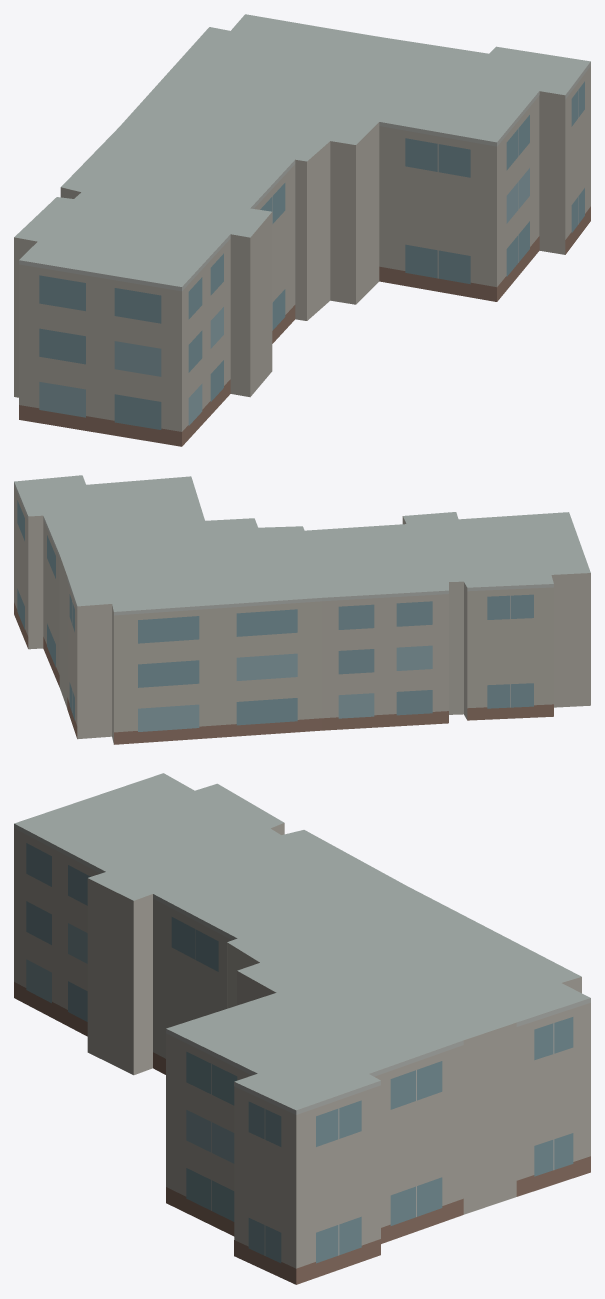
File: survey-upis-32467064.glb
3 views of the same model, one above another, from view 1: azimuth 30°, elevation 25°; view 2: azimuth 150°, elevation 25°; view 3: azimuth 270°, elevation 25° (orthographic). The views are drawn at different scales.
Parts seen in each view (by area): view 1: survey-upis-32467064.tmp; view 2: survey-upis-32467064.tmp; view 3: survey-upis-32467064.tmp.
Boxes of the visible parts, bbox=[...] form: survey-upis-32467064.tmp: bbox=[14, 14, 590, 446]; survey-upis-32467064.tmp: bbox=[14, 475, 590, 744]; survey-upis-32467064.tmp: bbox=[14, 773, 590, 1284].
Size of the model in its own units: 37.96 by 9.15 by 27.43.
